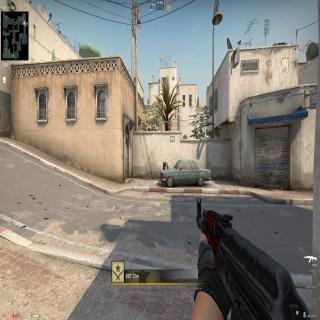CT-Head: (163, 161, 166, 166)
